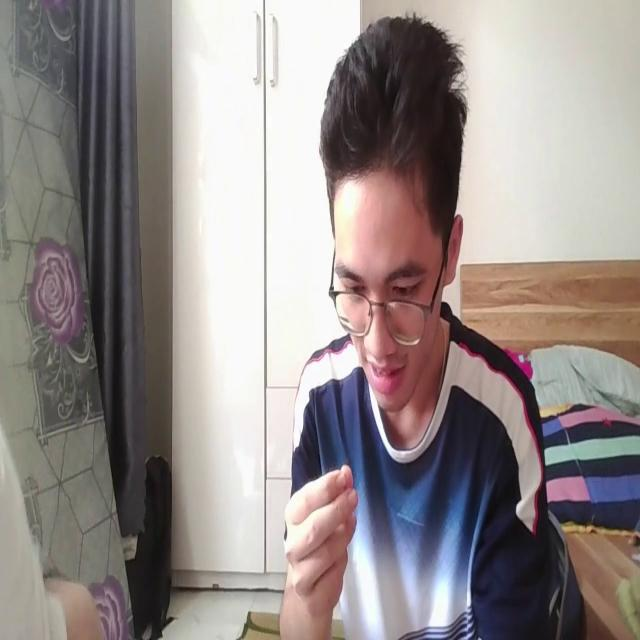student: (284, 8, 550, 640)
